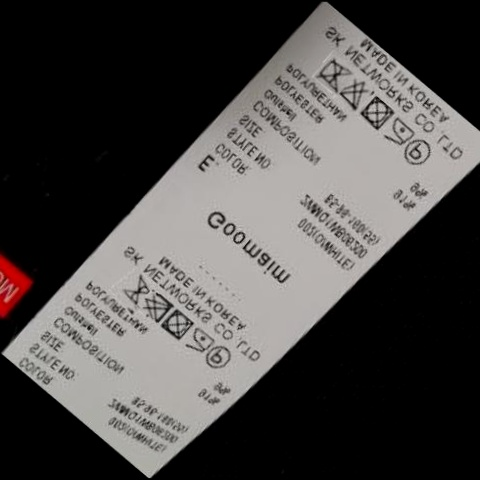DN_bleach: (340, 77, 367, 109), (143, 293, 171, 323)
DN_tumble_dry: (358, 93, 393, 131), (160, 309, 191, 340)
DN_wash: (318, 58, 349, 91), (120, 275, 149, 301)
dry_clean_any_solvent_except_trichloroethylene: (403, 139, 430, 167), (204, 343, 232, 370)
iron_low: (386, 119, 413, 146), (186, 328, 212, 351)
